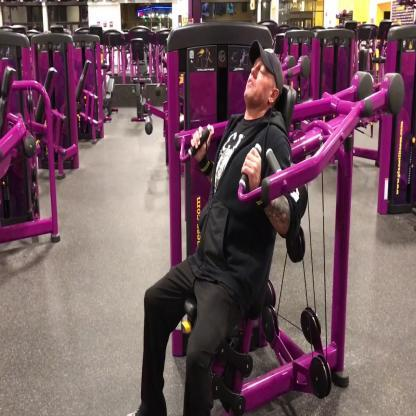shoulder press machine: (168, 24, 403, 396)
